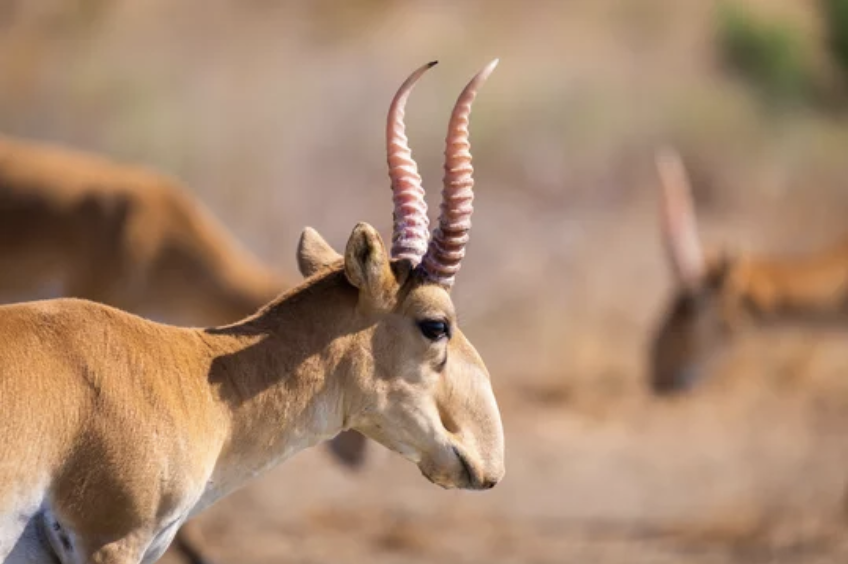saiga: (1, 64, 515, 564)
